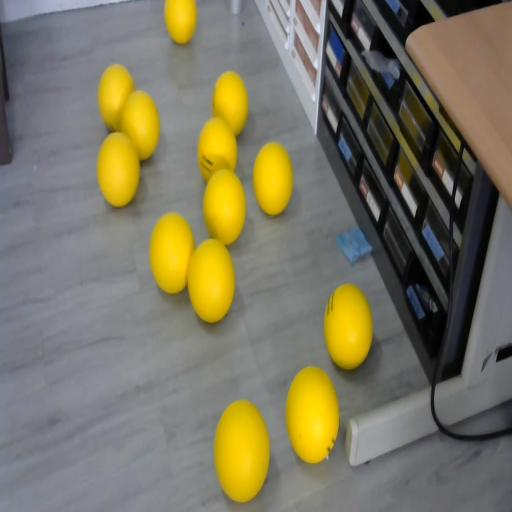FUEL: (213, 398, 270, 502), (284, 365, 340, 462), (324, 282, 373, 370), (186, 238, 236, 322), (148, 211, 196, 295), (96, 130, 140, 208), (202, 168, 246, 245), (252, 141, 294, 215), (98, 64, 136, 132), (212, 71, 249, 135), (164, 0, 197, 45)
